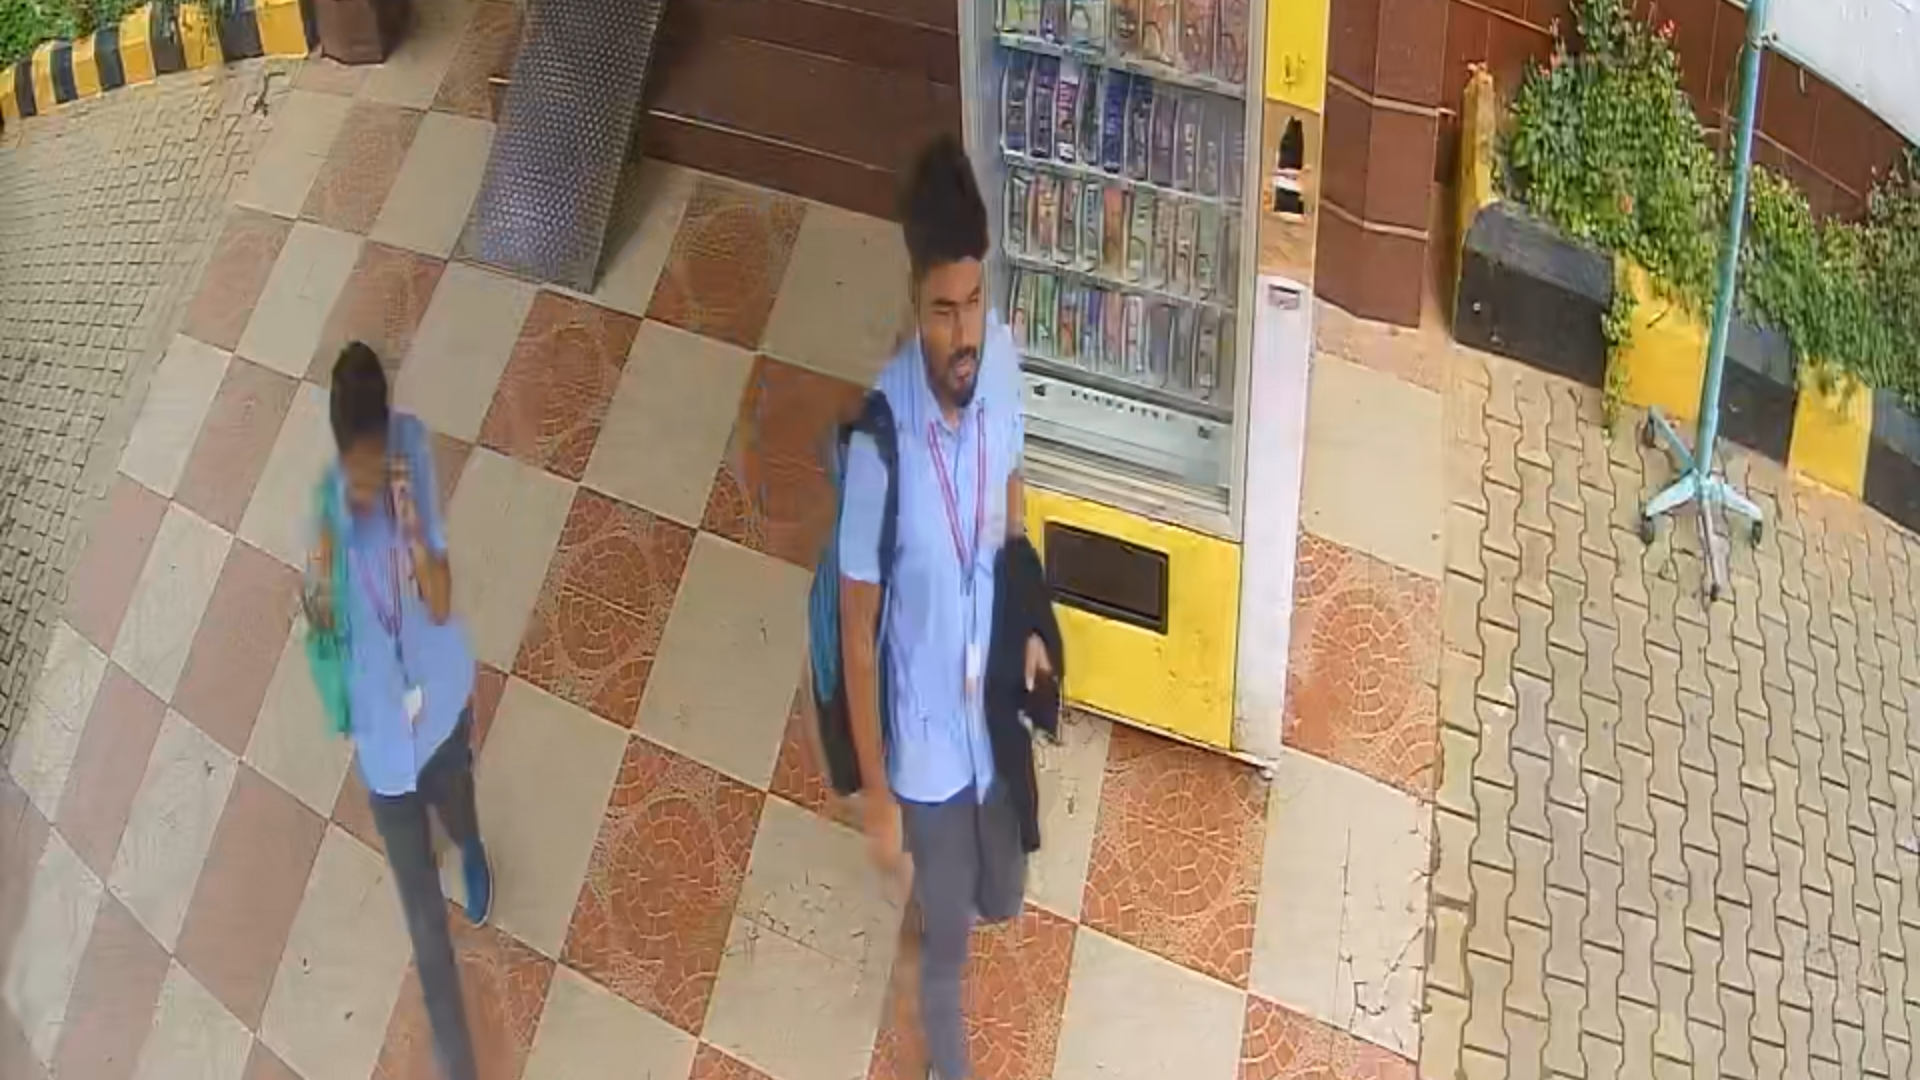not intruder: (816, 133, 1039, 1080), (301, 334, 539, 1080)
